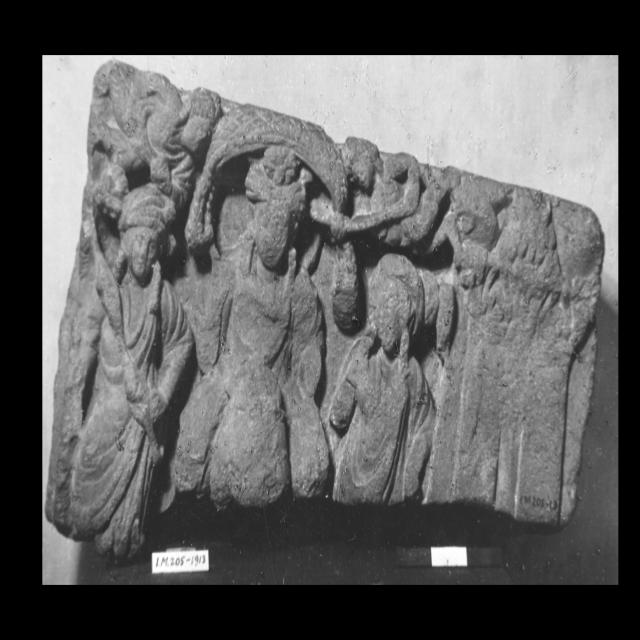buddha-horse-riding: (174, 144, 330, 507)
